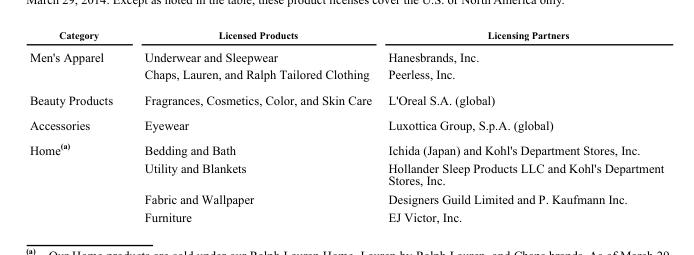table: (28, 29, 663, 223)
table column: (379, 29, 663, 223), (127, 29, 379, 223), (28, 29, 127, 223)
table column header: (28, 29, 663, 45)
table row: (28, 158, 663, 189), (28, 86, 663, 112), (28, 112, 663, 136), (28, 136, 663, 158), (28, 65, 663, 86), (28, 45, 663, 65), (28, 189, 663, 208), (28, 29, 663, 45), (28, 208, 663, 223)
table spanning cell: (28, 136, 127, 223), (28, 45, 127, 86)
